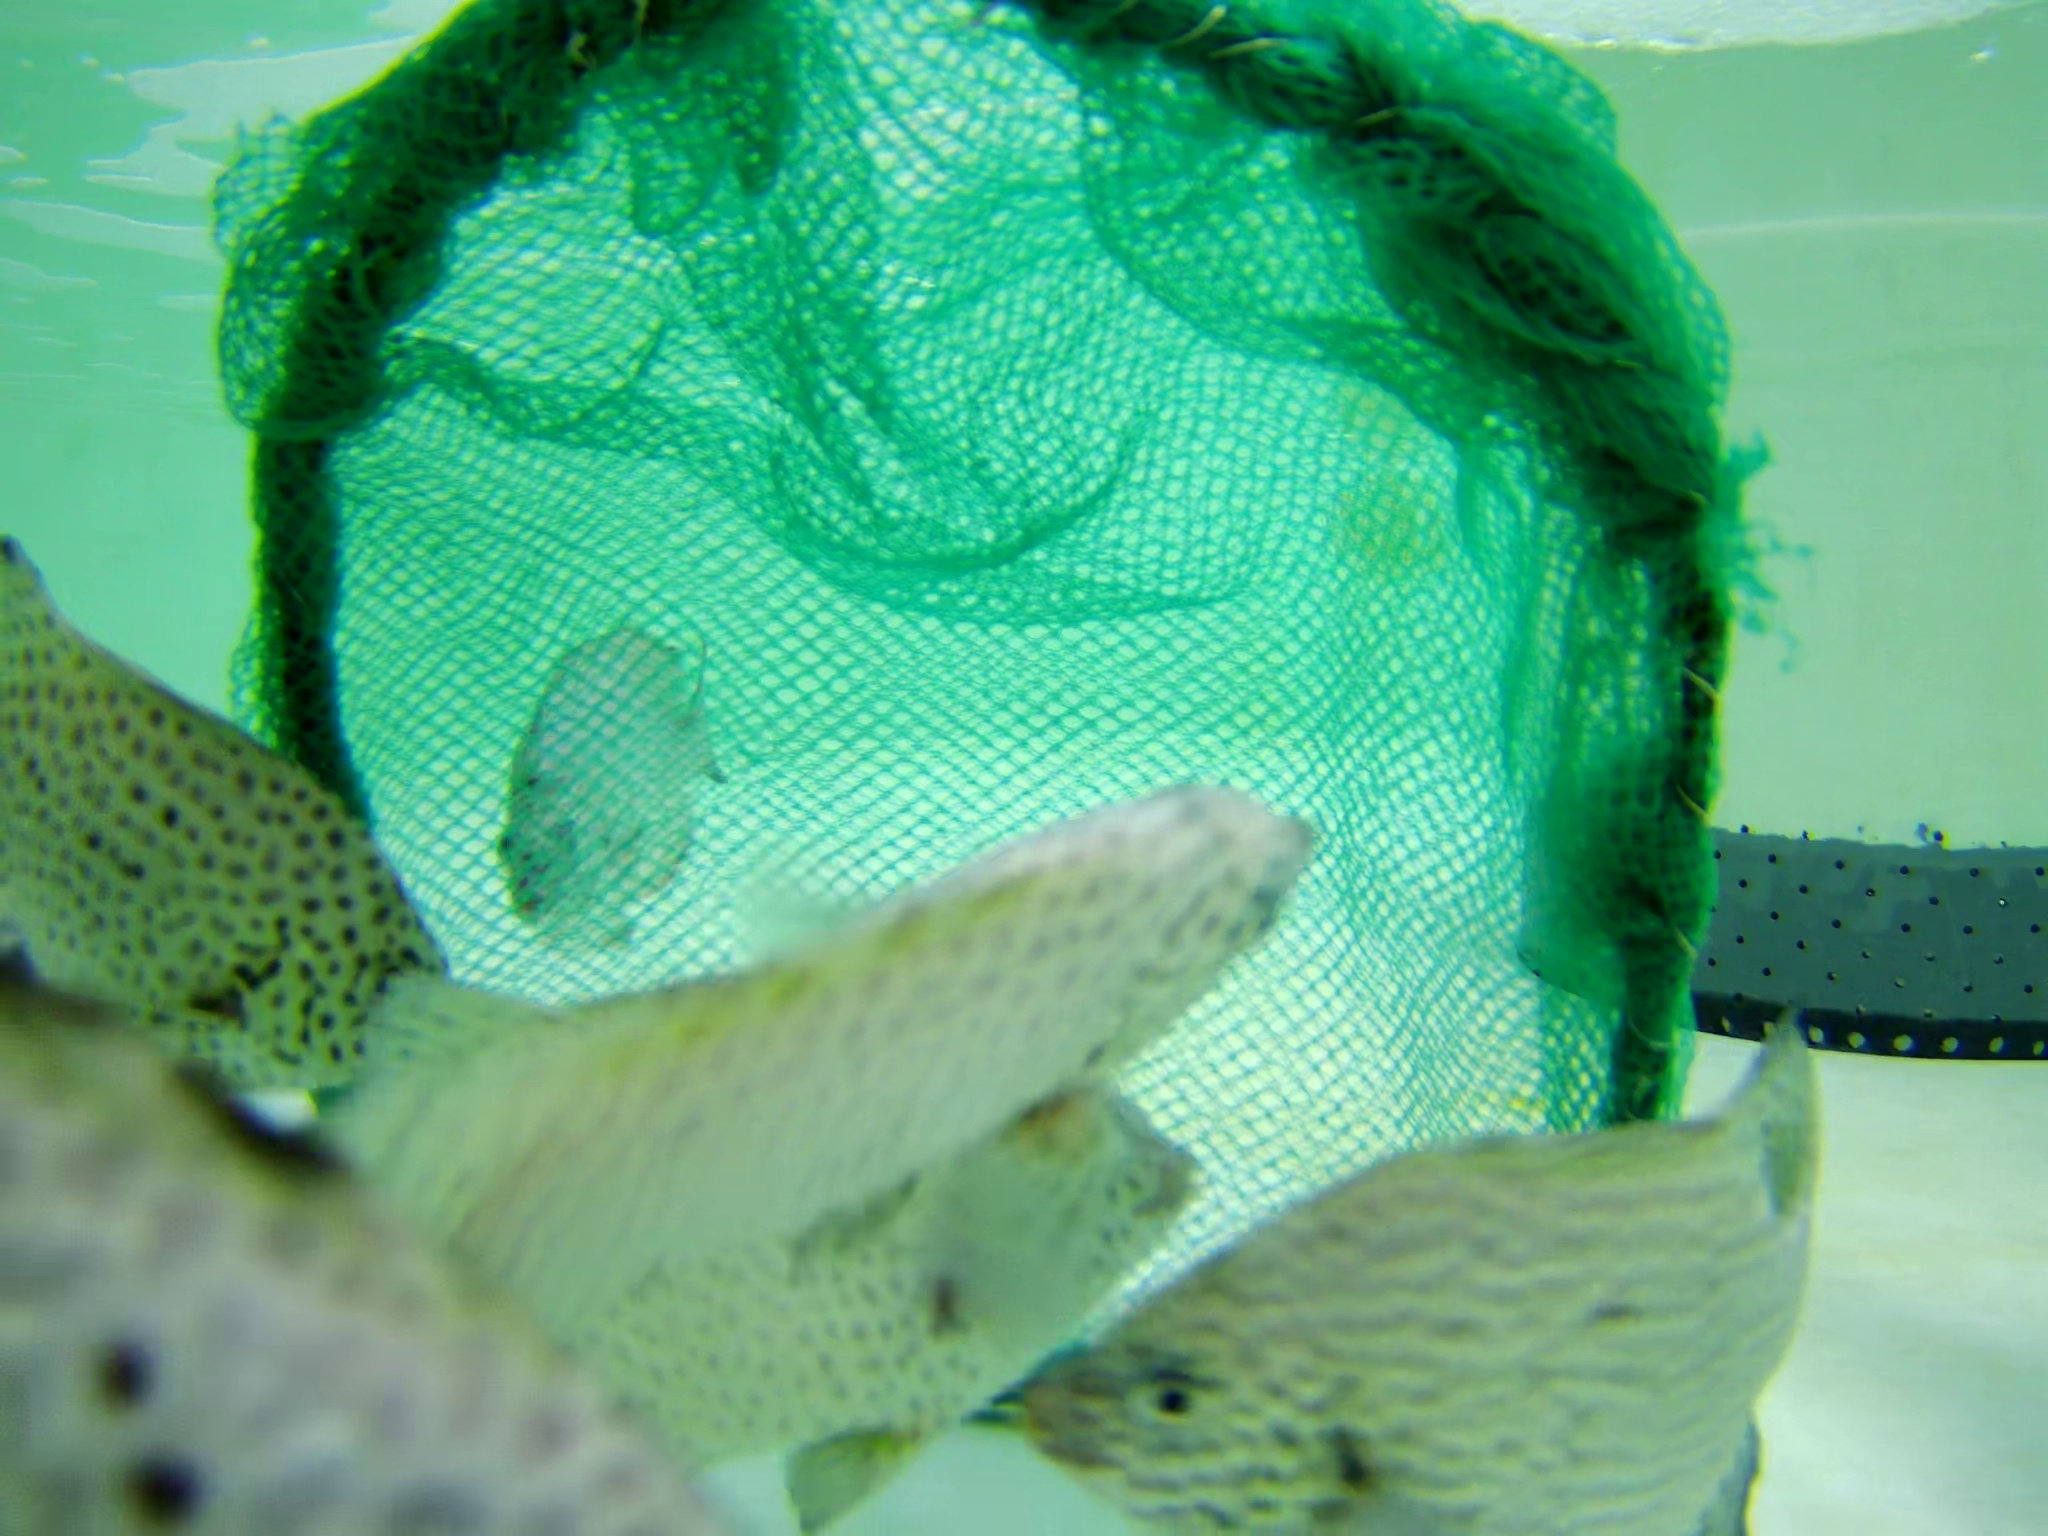fish: (334, 826, 1348, 1289), (972, 1010, 1843, 1536), (15, 968, 806, 1536), (2, 515, 464, 1087), (605, 1070, 1211, 1447), (479, 623, 742, 941)
